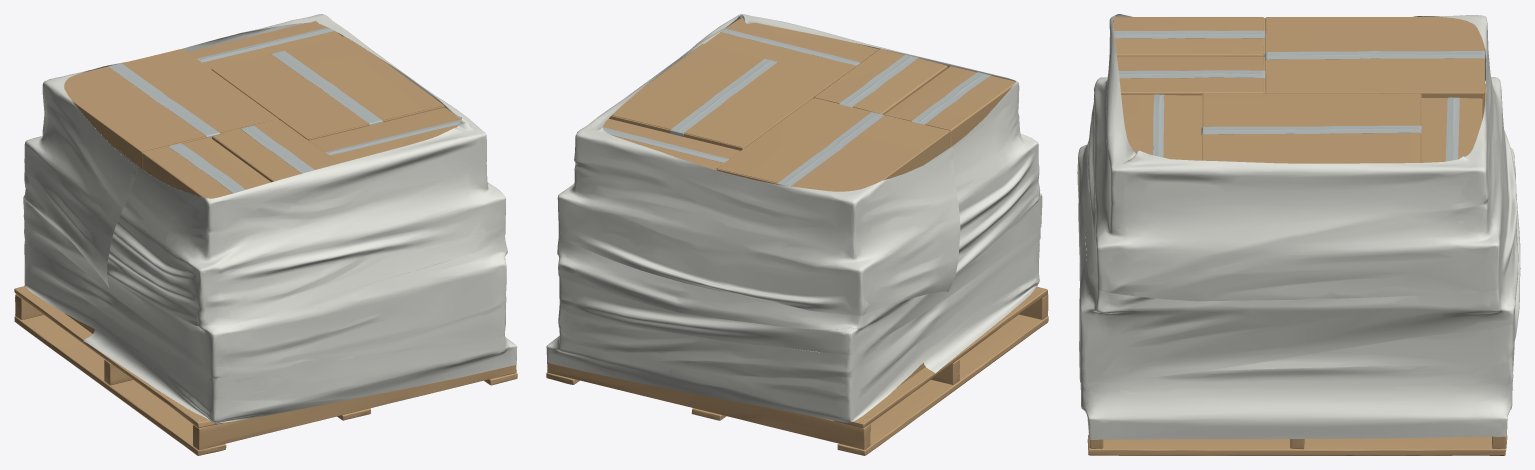
Rendered from pallet_assembly_transparent_a04.glb.
3 views of the same model, side by side, from view 1: azimuth 30°, elevation 25°; view 2: azimuth 150°, elevation 25°; view 3: azimuth 270°, elevation 25° (orthographic). The views are drawn at different scales.
Bounding box in the file's own units: 1.19 × 0.9022 × 1.26.
